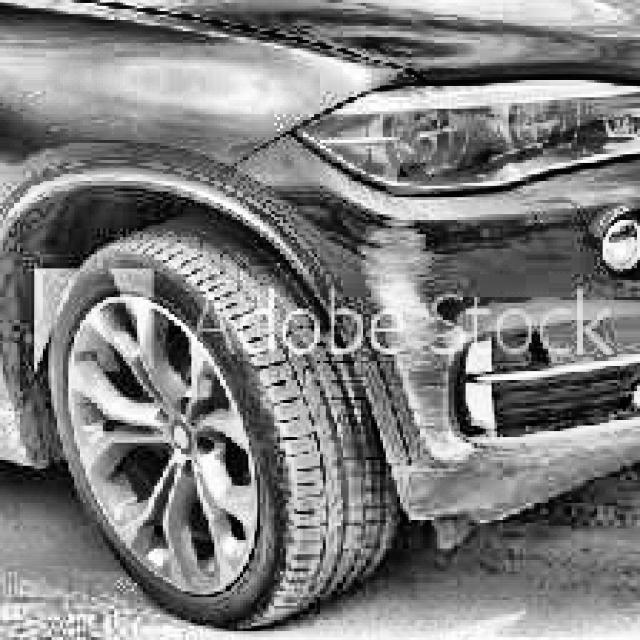bumper_scratch: (364, 228, 478, 466)
